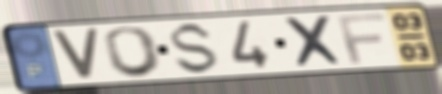4: (229, 18, 273, 72)
F: (334, 11, 388, 66)
O: (102, 24, 168, 79)
S: (168, 20, 222, 77)
V: (47, 27, 102, 82)
X: (280, 14, 349, 70)
